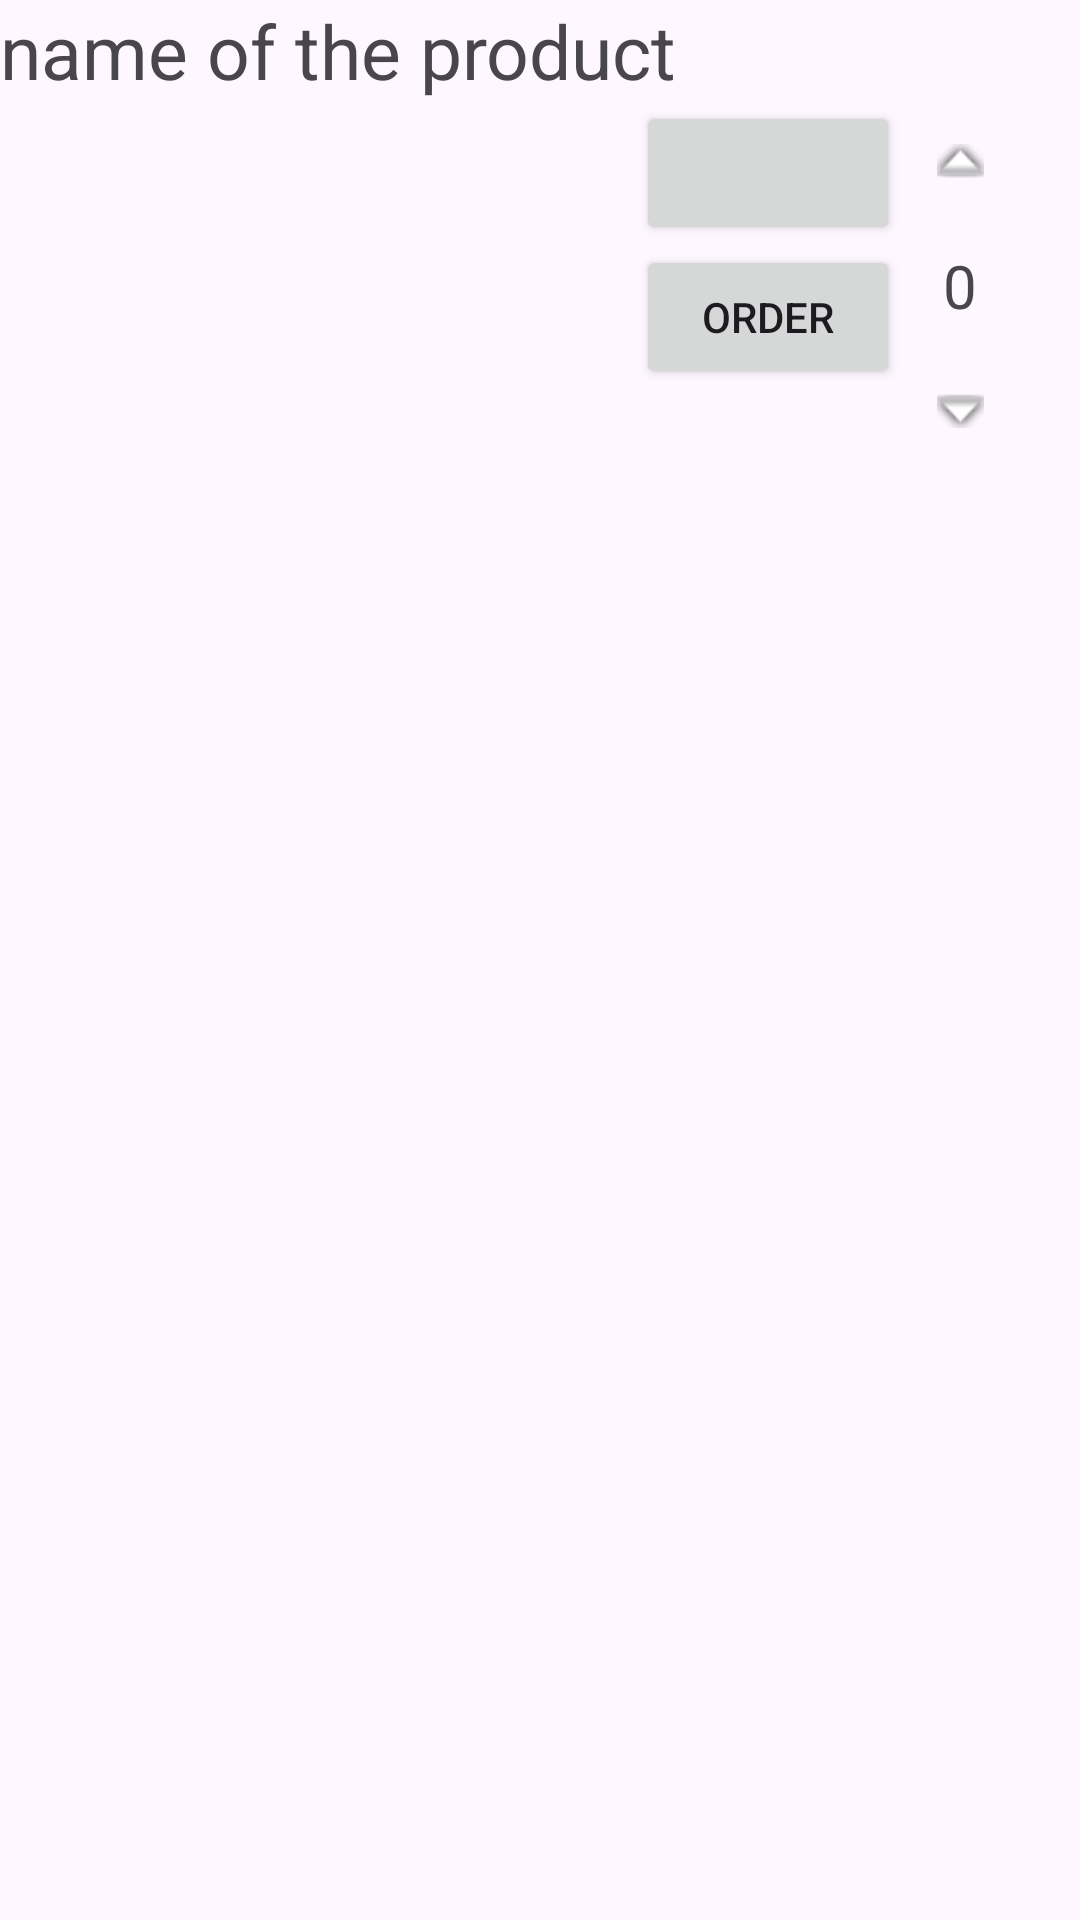

Named icons in this screenshot (1080 × 1920) and their centers, (x=x, y=y):
arrow down float: (x=960, y=411)
arrow up float: (x=960, y=161)
